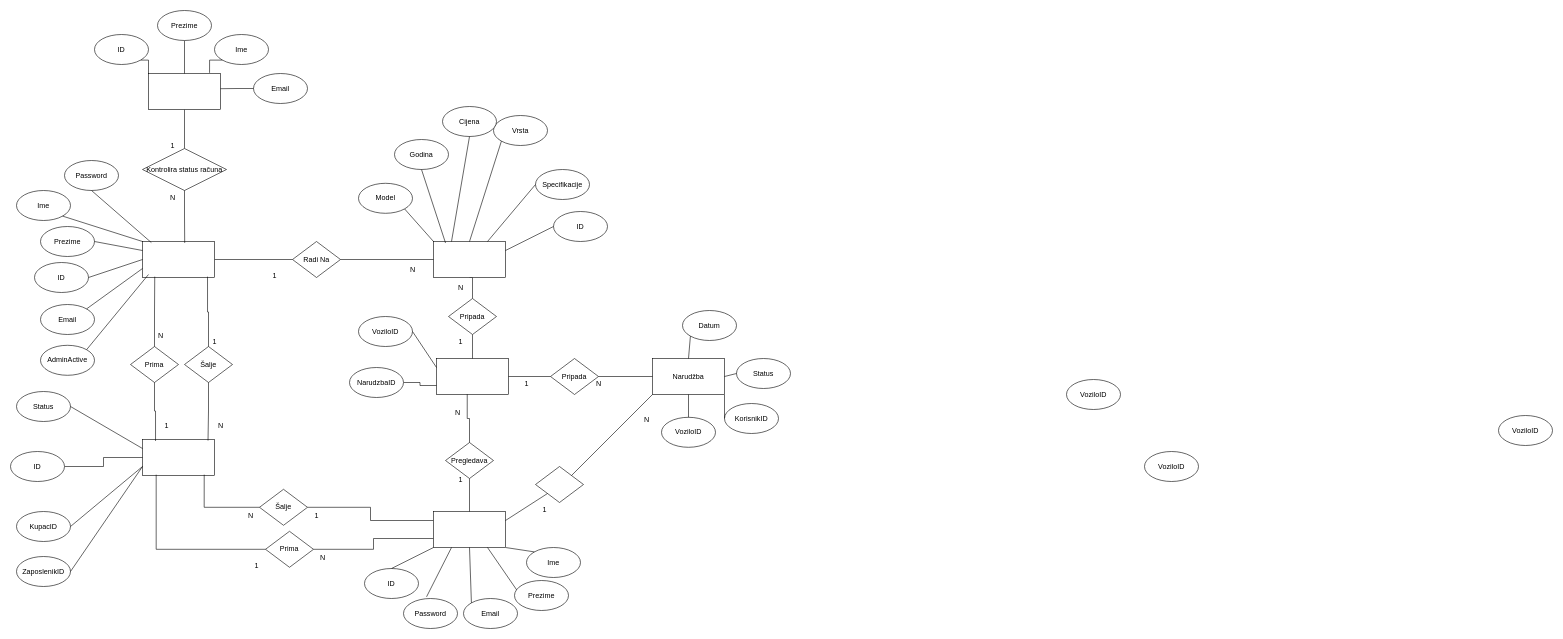
The diagram is 1563 pixels wide and 639 high, and some of its shapes have lost their labels. Here are the shapes that lost their labels. From the top down, the box of each, then its label:
(148, 73, 220, 110): Superadmin
(142, 241, 214, 278): Zaposlenik
(433, 241, 506, 278): Vozilo
(436, 358, 508, 394): Inventar
(142, 439, 214, 476): Tiket
(535, 466, 584, 502): Naručuje
(433, 511, 506, 548): Kupac
